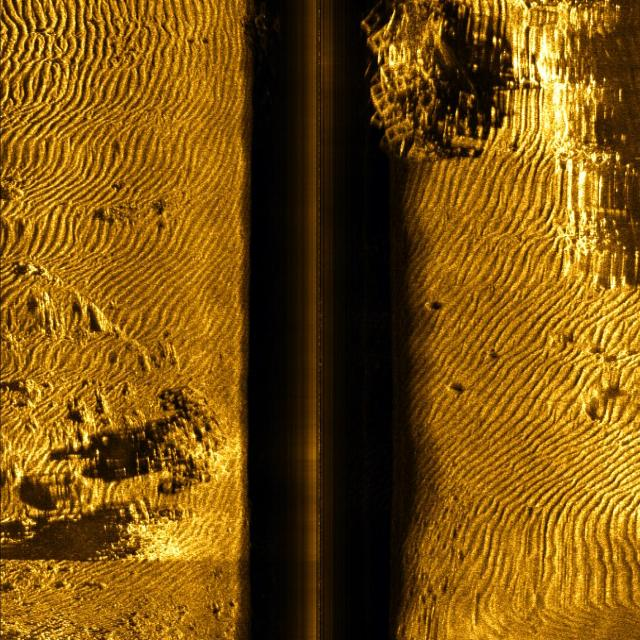artificial reef: (372, 17, 482, 152)
